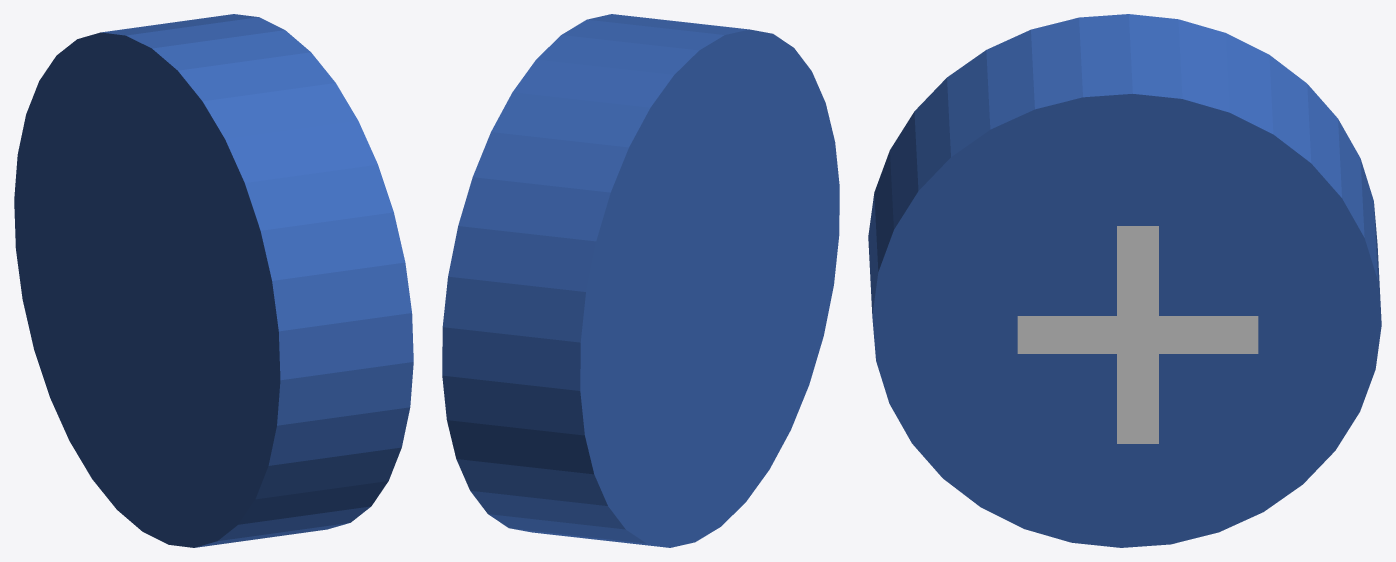
File: agregar.glb
The picture shows the model from 3 angles, left to right: view 1: azimuth 30°, elevation 25°; view 2: azimuth 150°, elevation 25°; view 3: azimuth 270°, elevation 25°; orthographic projection. The views are drawn at different scales.
Visible parts, largest first — view 1: Cilindro; view 2: Cilindro; view 3: Cilindro, Texto.
Boxes of the visible parts, x1,y1,x2,y2 form: Cilindro: (14, 14, 413, 547); Cilindro: (442, 14, 839, 547); Cilindro: (868, 14, 1381, 547); Texto: (1017, 226, 1258, 443).
Size of the model in its own units: 0.8608 by 2.07 by 2.02.
